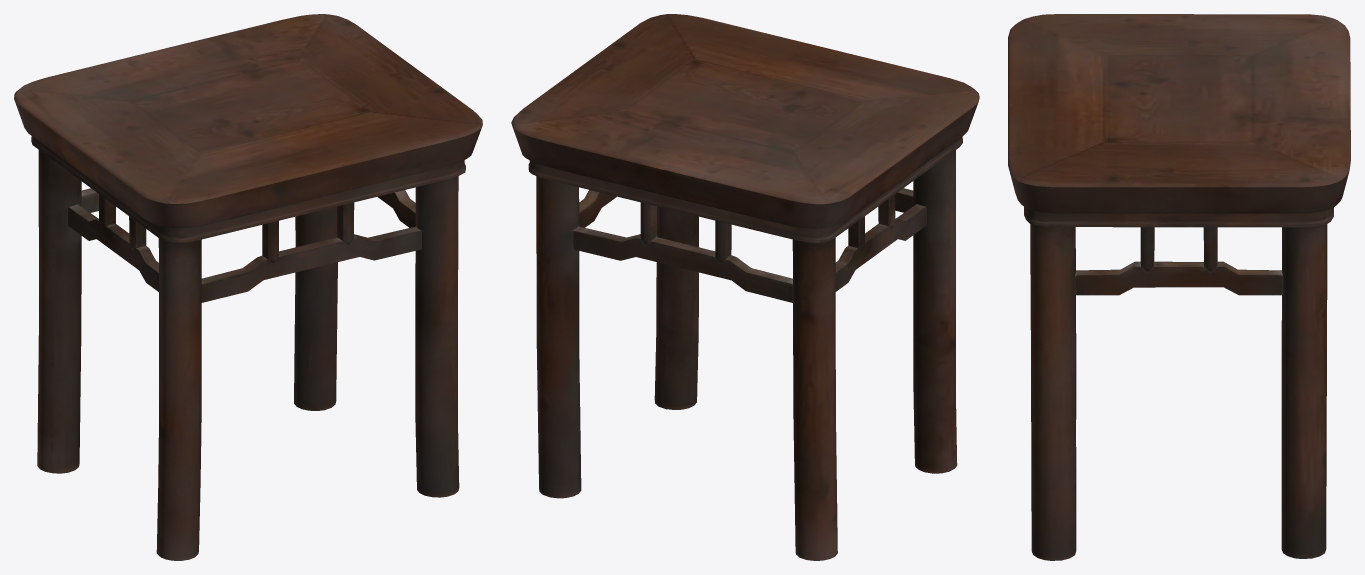
The model's file is chinese_stool.glb.
The picture shows the model from 3 angles, left to right: view 1: azimuth 30°, elevation 25°; view 2: azimuth 150°, elevation 25°; view 3: azimuth 270°, elevation 25°; orthographic projection. The views are drawn at different scales.
Parts seen in each view (by area): view 1: chinese_stool; view 2: chinese_stool; view 3: chinese_stool.
Boxes of the visible parts, box(x1,y1,x2,y2) form: chinese_stool: box(14, 14, 482, 560); chinese_stool: box(511, 14, 979, 560); chinese_stool: box(1008, 14, 1350, 560).
Bounding box in the file's own units: 0.599 × 0.6306 × 0.5064.
1 material, 1 textured.
